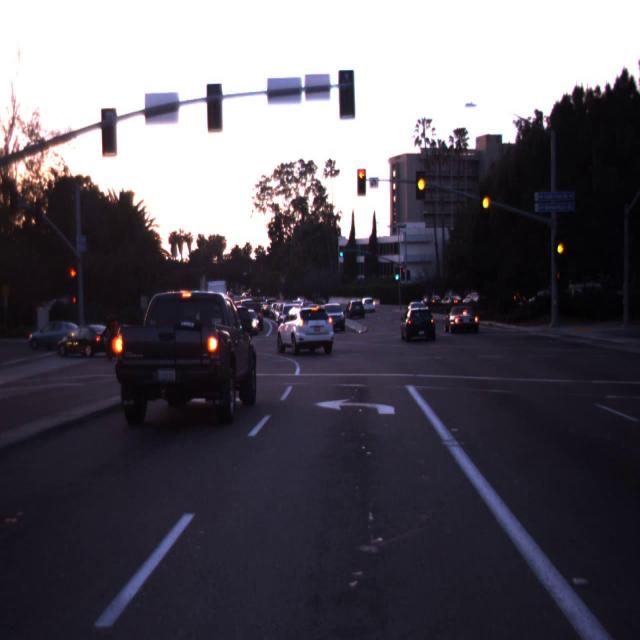go: (340, 253, 342, 256), (396, 275, 398, 277)
go traffic light: (337, 241, 345, 257), (394, 265, 400, 279)
stop left: (358, 169, 364, 176), (71, 271, 75, 276)
stop left traffic light: (352, 166, 370, 196), (66, 268, 80, 292)
warning: (418, 180, 424, 190), (484, 198, 489, 208), (558, 245, 562, 253)
warning traffic light: (412, 159, 430, 204), (479, 178, 494, 223), (553, 231, 567, 263)
